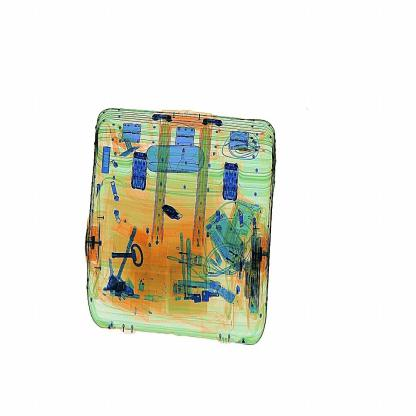scissors: (161, 200, 186, 221)
